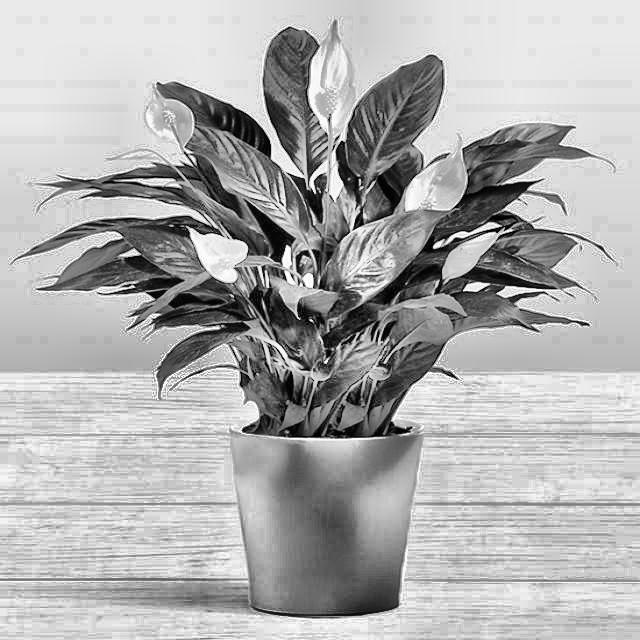plants: (57, 26, 588, 602)
